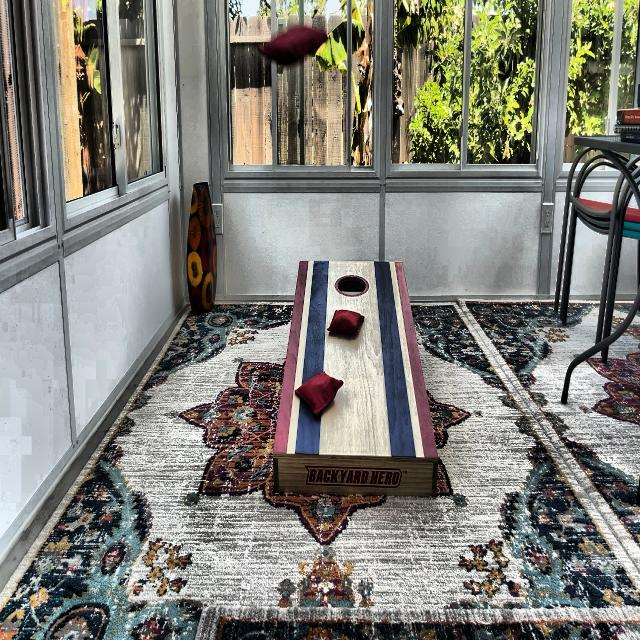board: (293, 261, 411, 453)
hole: (335, 275, 369, 298)
red-bean-bag: (257, 23, 329, 68), (295, 370, 343, 416), (328, 310, 364, 336)
